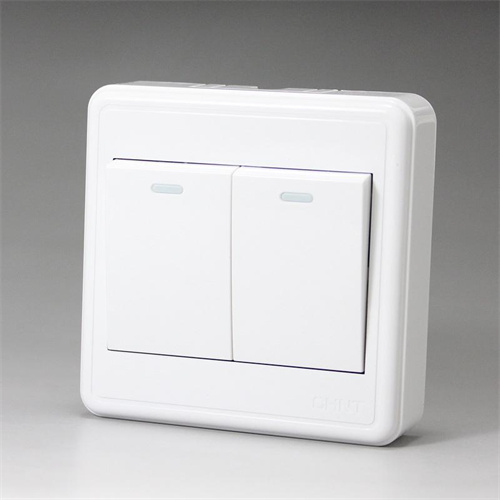button: (80, 80, 429, 447)
